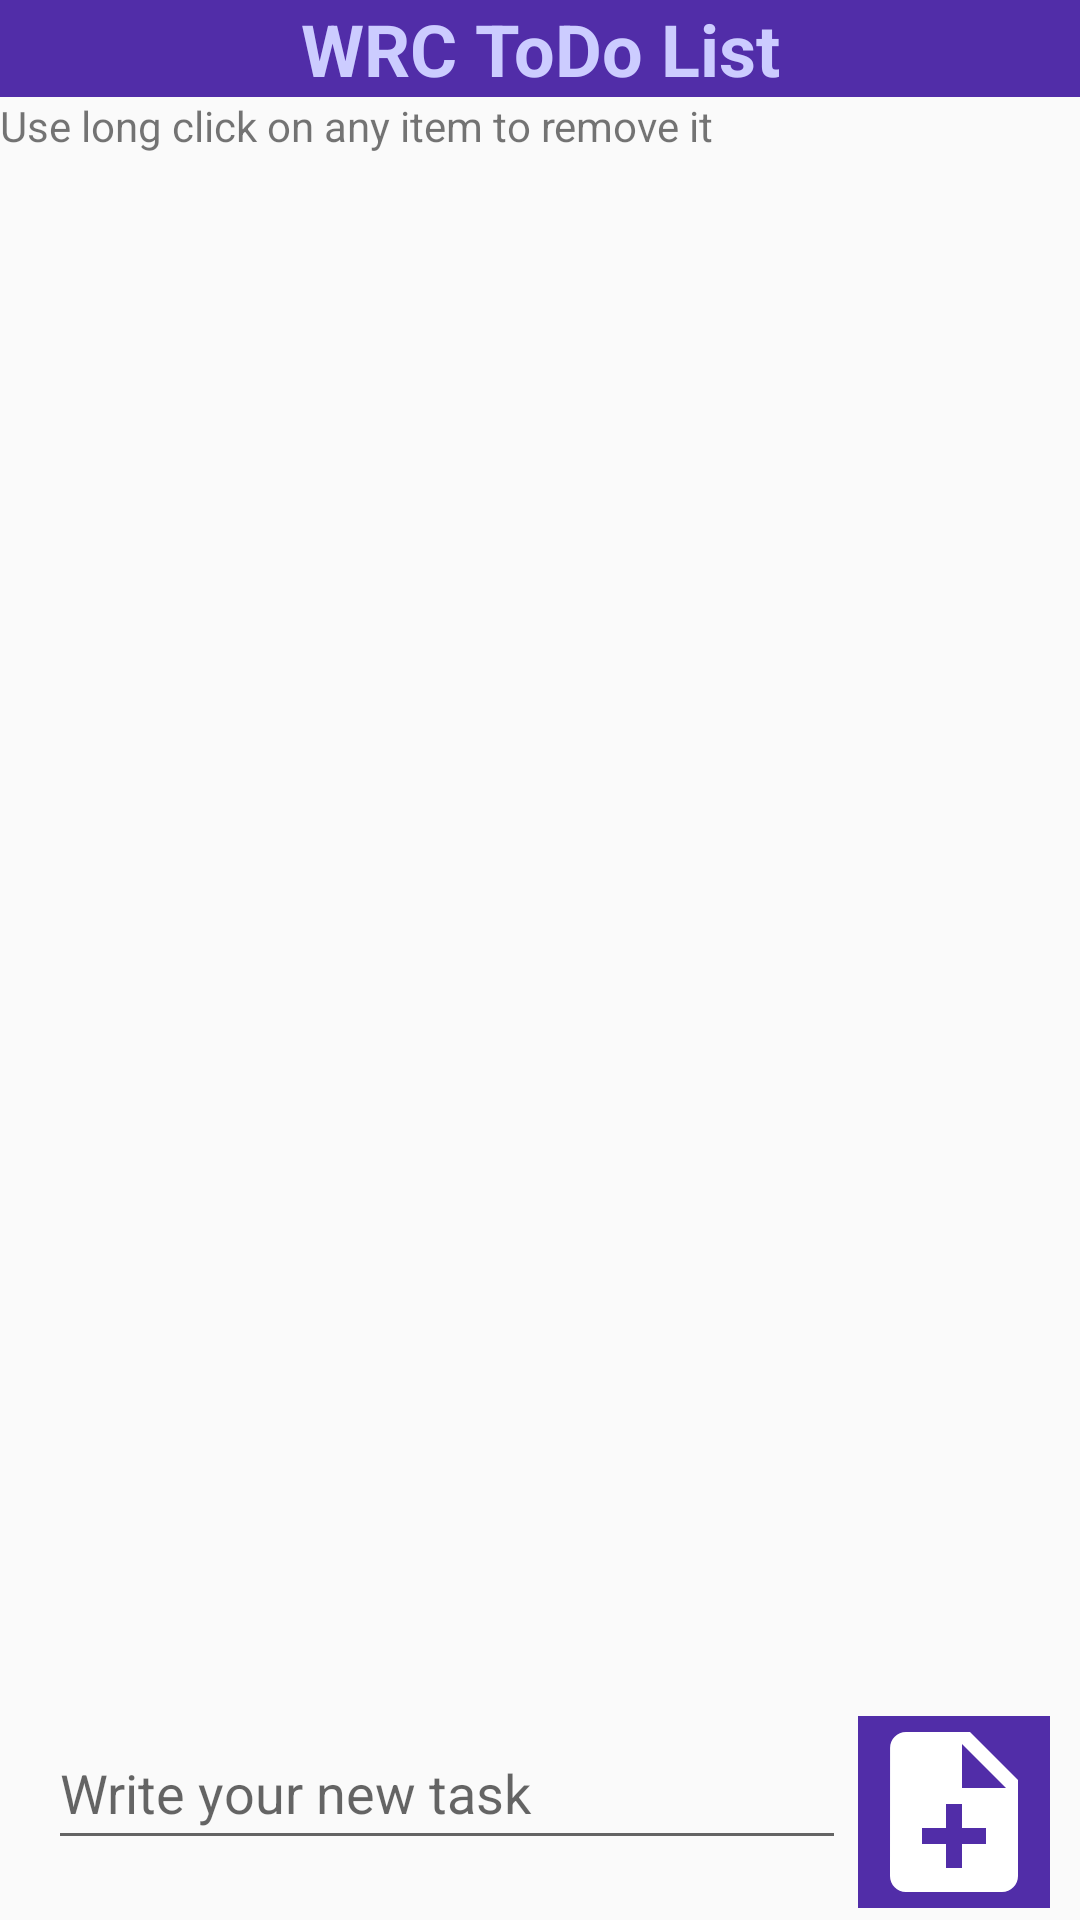

Icons on this 1080*1920 Android screen, each with the point to tap as (x=x, y=y):
note add: (x=954, y=1812)
